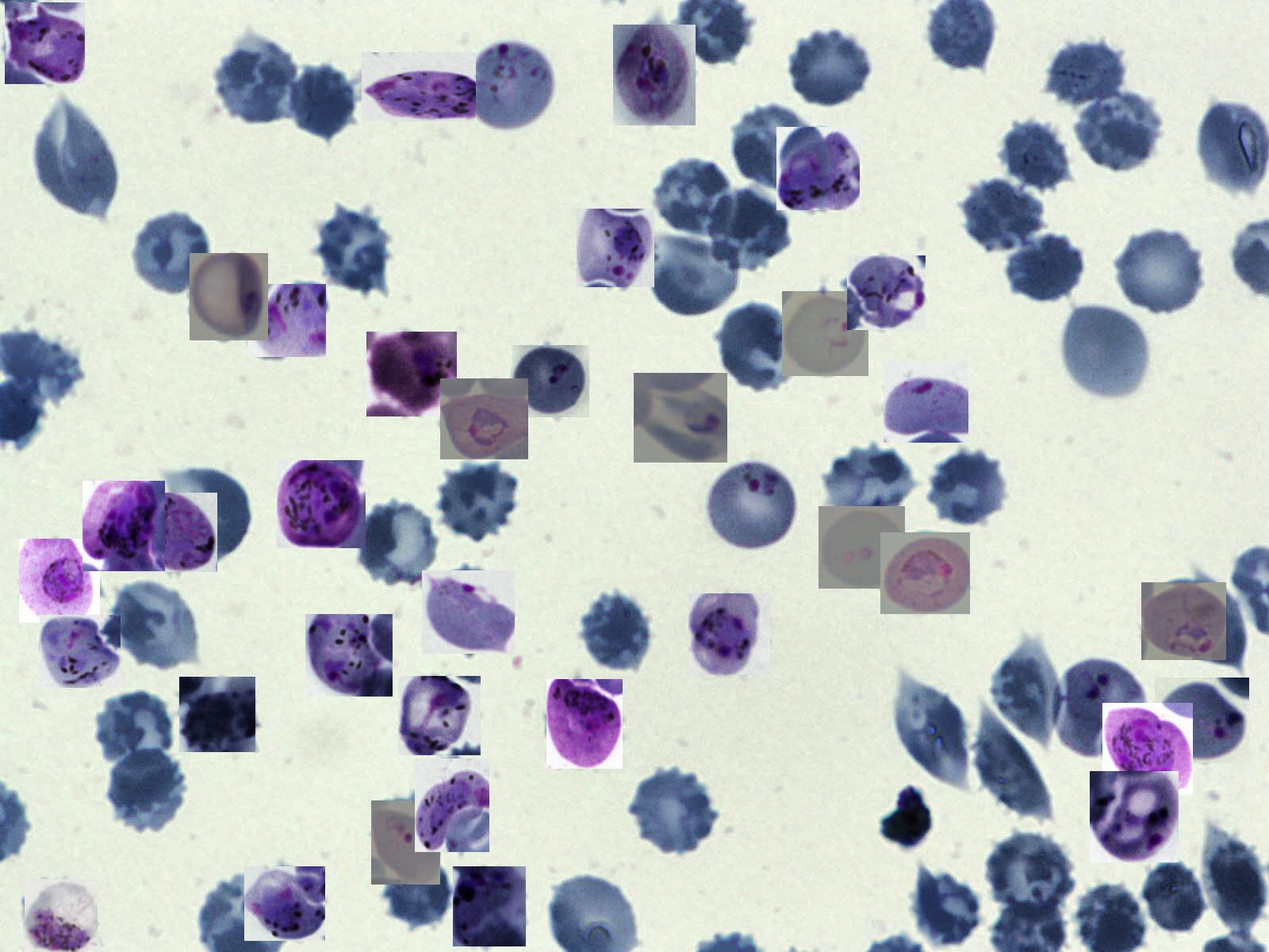Infected: (1053, 654, 1147, 758), (704, 458, 800, 554), (466, 40, 558, 133), (1102, 703, 1193, 795), (634, 373, 727, 463), (613, 25, 696, 125), (1090, 771, 1179, 862), (1155, 678, 1249, 763), (362, 52, 476, 121), (277, 460, 366, 548), (422, 570, 515, 654), (366, 332, 457, 416), (82, 481, 165, 571), (880, 532, 970, 614), (782, 291, 868, 376), (305, 614, 393, 697), (819, 506, 905, 589), (440, 378, 528, 459), (776, 127, 860, 210), (546, 679, 623, 769), (884, 361, 968, 443), (415, 759, 489, 852), (19, 539, 100, 623), (190, 253, 268, 340), (688, 593, 770, 675), (132, 493, 217, 572), (1141, 582, 1226, 660), (398, 676, 481, 755), (6, 3, 85, 84), (244, 866, 325, 941), (577, 209, 654, 287), (847, 255, 926, 330), (40, 615, 121, 688), (371, 800, 440, 885), (453, 866, 526, 946), (247, 284, 326, 357), (179, 677, 255, 752), (512, 345, 589, 417), (25, 879, 98, 952)
Uninfected: (34, 99, 118, 214), (976, 704, 1057, 822), (1060, 301, 1152, 402), (890, 670, 968, 789), (988, 640, 1062, 756), (1114, 225, 1207, 317), (645, 231, 744, 315), (113, 578, 201, 672), (982, 831, 1075, 919), (715, 302, 802, 396), (169, 466, 254, 562), (629, 766, 719, 854), (354, 498, 442, 588), (731, 100, 819, 190), (822, 444, 918, 523), (1204, 820, 1267, 937), (706, 190, 795, 271), (129, 210, 213, 294), (1075, 92, 1160, 175), (434, 464, 524, 542), (788, 27, 875, 106), (108, 747, 187, 834), (215, 42, 298, 124), (313, 206, 394, 290), (1181, 573, 1248, 674), (94, 691, 178, 769), (1044, 36, 1127, 113), (961, 179, 1044, 253), (922, 454, 1008, 524), (655, 159, 733, 236), (576, 593, 650, 674), (910, 866, 983, 946), (383, 850, 453, 931), (1007, 232, 1089, 301), (1139, 861, 1210, 937), (287, 66, 356, 140), (1001, 119, 1068, 191)
